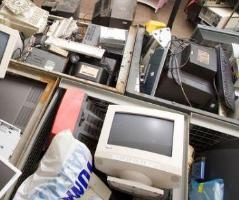electronic: (104, 88, 225, 200), (143, 36, 187, 114), (40, 30, 114, 70)
